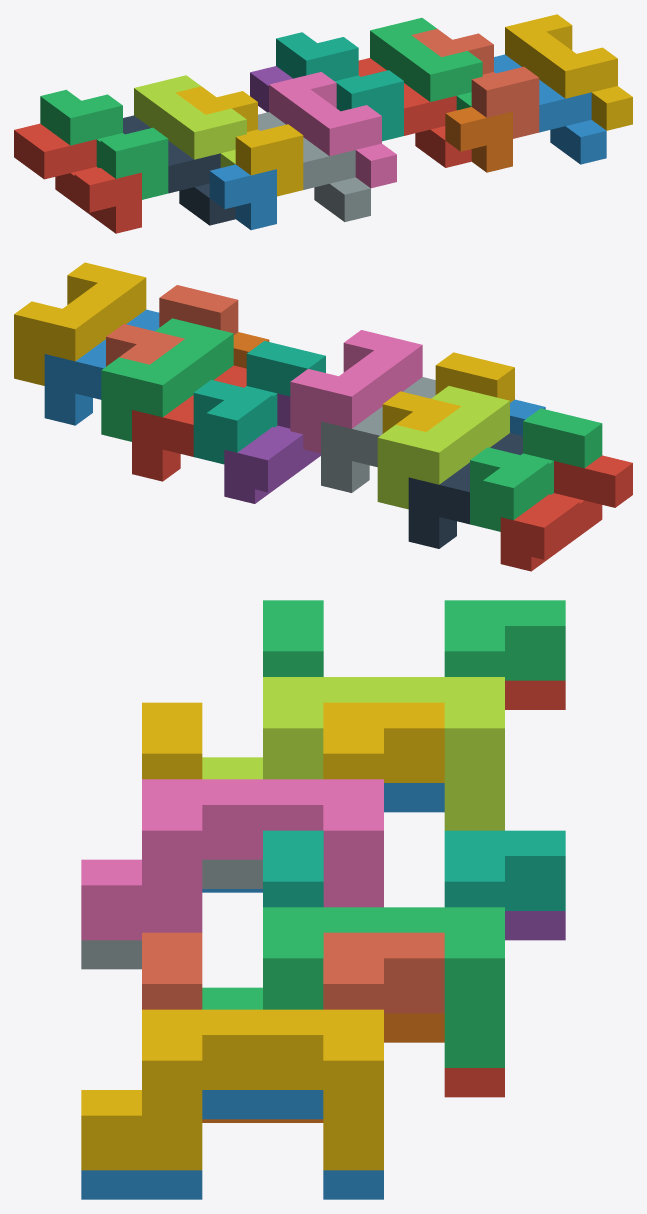
File: tiling.obj
3 views of the same model, one above another, from view 1: azimuth 30°, elevation 25°; view 2: azimuth 150°, elevation 25°; view 3: azimuth 270°, elevation 25° (orthographic). The views are drawn at different scales.
Visible parts, largest first — view 1: copy_2_domain_8, copy_2_domain_4, copy_1_domain_3, copy_1_domain_1, copy_1_domain_7, copy_2_domain_3, copy_2_domain_7, copy_1_domain_8, copy_1_domain_4, copy_2_domain_6, copy_2_domain_2, copy_2_domain_5 (+4 smaller); view 2: copy_2_domain_8, copy_1_domain_3, copy_2_domain_4, copy_2_domain_3, copy_2_domain_7, copy_1_domain_7, copy_1_domain_1, copy_1_domain_5, copy_1_domain_4, copy_1_domain_8, copy_2_domain_5, copy_2_domain_1 (+4 smaller); view 3: copy_2_domain_8, copy_2_domain_4, copy_2_domain_7, copy_2_domain_3, copy_1_domain_8, copy_1_domain_4, copy_1_domain_7, copy_1_domain_3, copy_2_domain_6, copy_2_domain_2, copy_1_domain_6, copy_1_domain_2 (+3 smaller).
Boxes of the visible parts, bbox=[...] form: copy_2_domain_8: bbox=[505, 14, 632, 130]; copy_2_domain_4: bbox=[269, 72, 396, 188]; copy_1_domain_3: bbox=[40, 89, 168, 199]; copy_1_domain_1: bbox=[14, 123, 141, 233]; copy_1_domain_7: bbox=[276, 32, 403, 141]; copy_2_domain_3: bbox=[134, 75, 246, 167]; copy_2_domain_7: bbox=[370, 18, 482, 110]; copy_1_domain_8: bbox=[411, 28, 539, 138]; copy_1_domain_4: bbox=[176, 86, 303, 196]; copy_2_domain_6: bbox=[494, 54, 606, 164]; copy_2_domain_2: bbox=[258, 112, 370, 221]; copy_2_domain_5: bbox=[358, 58, 471, 167]; copy_2_domain_8: bbox=[14, 262, 146, 385]; copy_1_domain_3: bbox=[470, 408, 602, 531]; copy_2_domain_4: bbox=[290, 330, 422, 453]; copy_2_domain_3: bbox=[377, 386, 509, 509]; copy_2_domain_7: bbox=[101, 318, 233, 441]; copy_1_domain_7: bbox=[193, 341, 325, 464]; copy_1_domain_1: bbox=[500, 455, 632, 571]; copy_1_domain_5: bbox=[224, 393, 320, 503]; copy_1_domain_4: bbox=[382, 352, 514, 433]; copy_1_domain_8: bbox=[106, 285, 238, 366]; copy_2_domain_5: bbox=[132, 365, 246, 481]; copy_2_domain_1: bbox=[408, 433, 522, 548]; copy_2_domain_8: bbox=[81, 1009, 383, 1170]; copy_2_domain_4: bbox=[81, 779, 383, 940]; copy_2_domain_7: bbox=[202, 907, 504, 1067]; copy_2_domain_3: bbox=[202, 677, 504, 830]; copy_1_domain_8: bbox=[142, 932, 444, 1013]; copy_1_domain_4: bbox=[142, 702, 444, 782]; copy_1_domain_7: bbox=[263, 830, 565, 910]; copy_1_domain_3: bbox=[263, 600, 565, 680]; copy_2_domain_6: bbox=[81, 1090, 383, 1199]; copy_2_domain_2: bbox=[81, 859, 262, 969]; copy_1_domain_6: bbox=[202, 1013, 444, 1122]; copy_1_domain_2: bbox=[202, 783, 444, 892].
Bounding box in the file's own units: 19 × 3 × 8.
